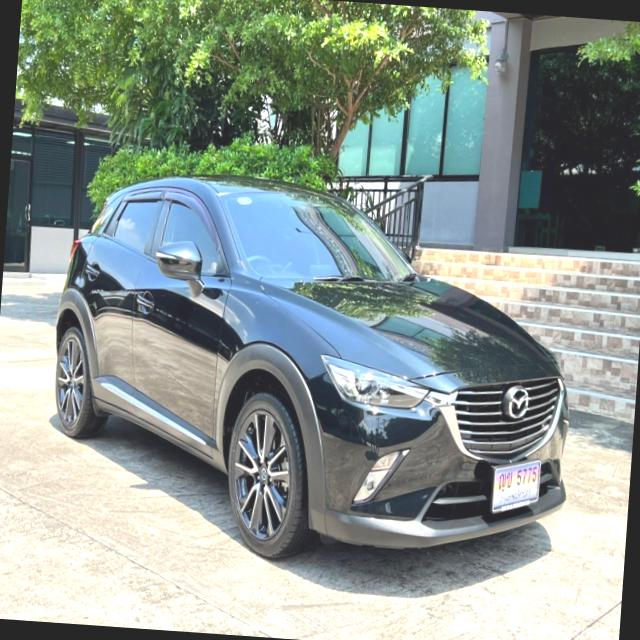license_plate: (490, 454, 544, 520)
